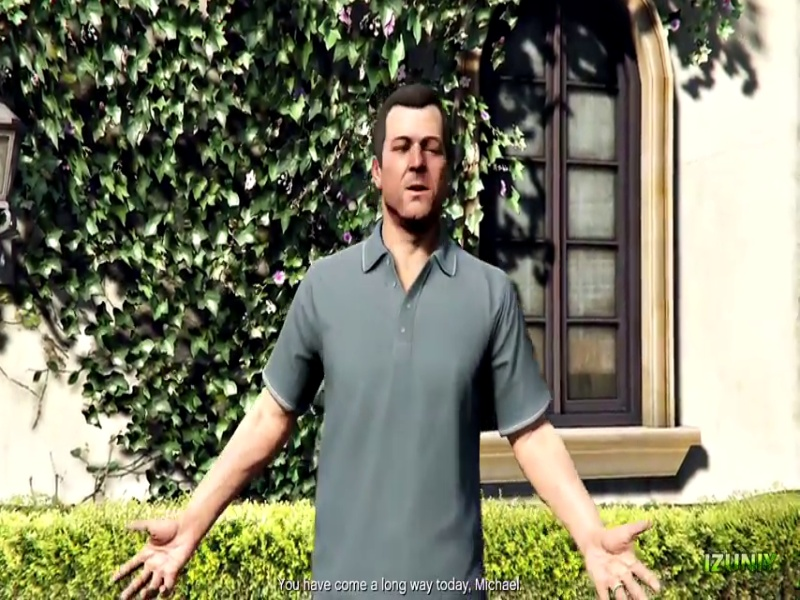human: (105, 65, 658, 595)
